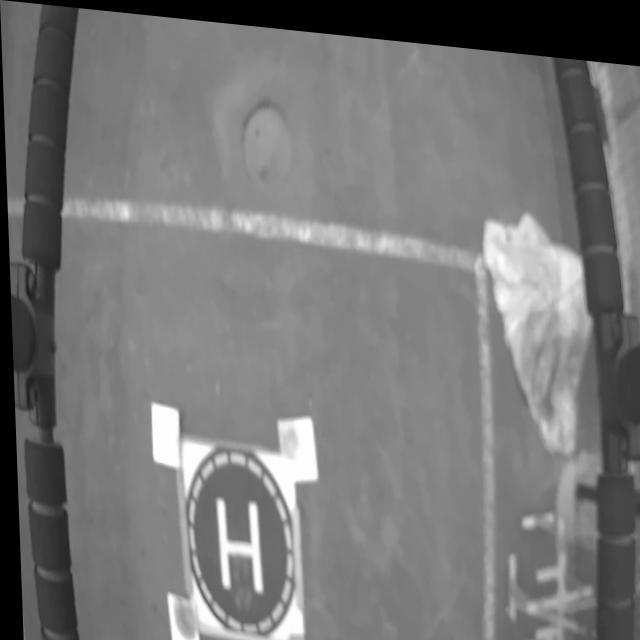Helipad: (211, 493, 259, 589)
